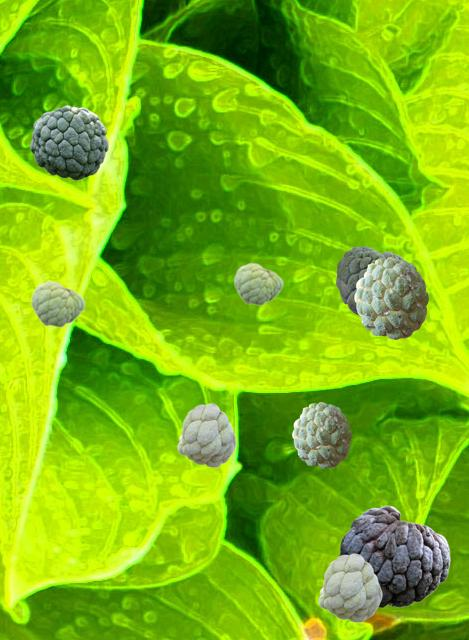atis: (339, 505, 449, 606), (354, 257, 427, 338), (30, 105, 107, 179), (336, 246, 404, 315), (318, 553, 381, 621), (292, 402, 350, 467), (177, 403, 235, 466), (30, 280, 84, 327), (233, 262, 282, 305)
